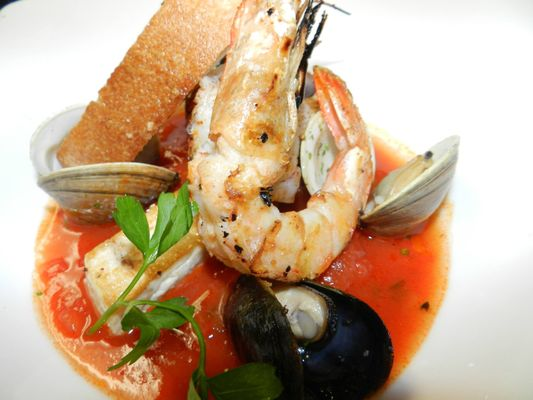soup: (38, 0, 467, 388), (53, 0, 395, 294)
